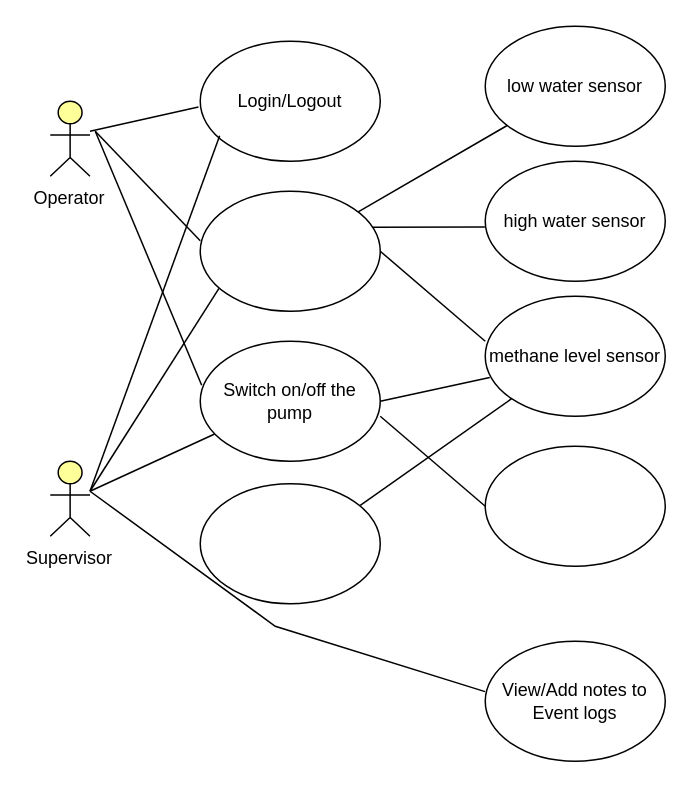
Some shapes in this 693 by 788 pixel diagram are drawn without their labels. Each missing label, with the centre of its shape:
Evacuation Alarm: (289,543)
Pump system: (574,505)
View Sensor Data: (289,250)
